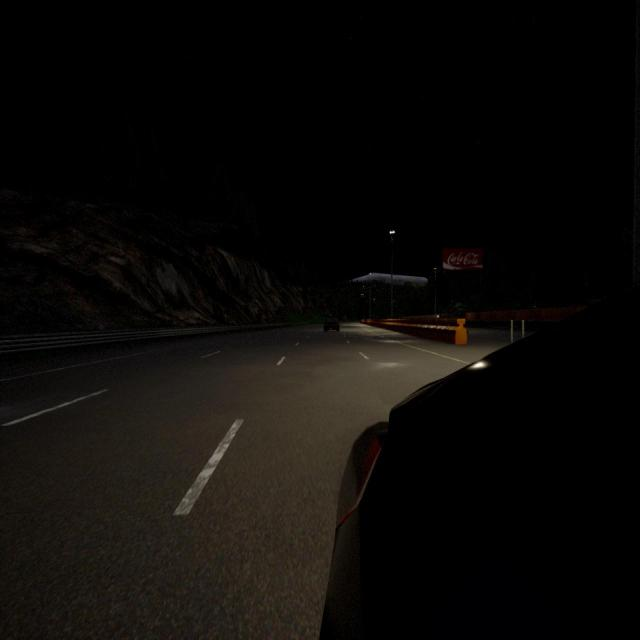Vehicle: (320, 286, 640, 638), (324, 314, 340, 332)
